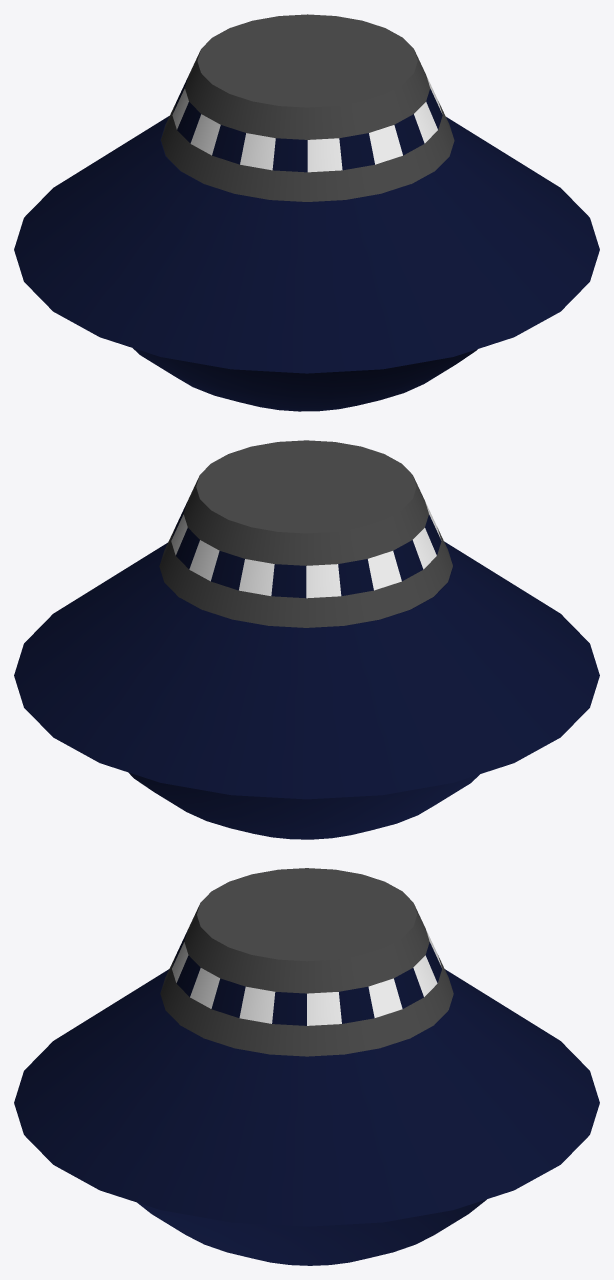
3 renders of one model, top to bottom at view 1: azimuth 30°, elevation 25°; view 2: azimuth 150°, elevation 25°; view 3: azimuth 270°, elevation 25°, orthographic.
Visible parts, largest first — view 1: Cone002; view 2: Cone002; view 3: Cone002.
Boxes of the visible parts, box(x1,y1,x2,y2) form: Cone002: box(14, 14, 599, 411); Cone002: box(14, 440, 599, 839); Cone002: box(14, 868, 599, 1265).
Size of the model in its own units: 82.5 by 50.73 by 82.5.
